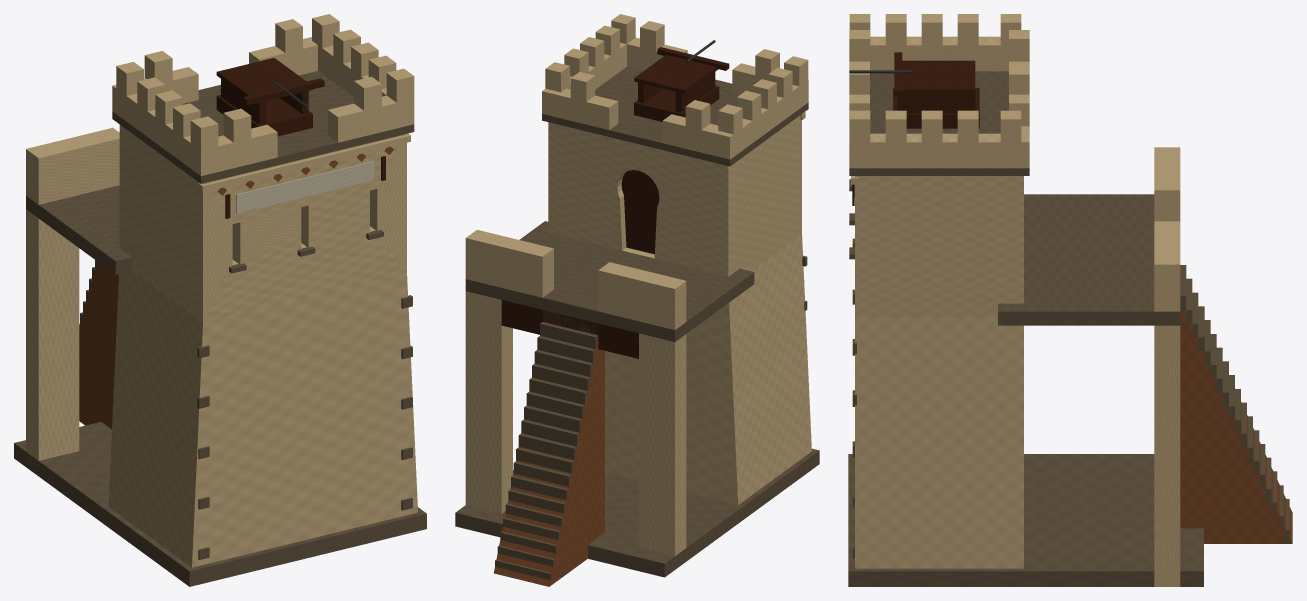
The model's file is Berber_WallTower_Age3_springald.fbx.
3 views of the same model, side by side, from view 1: azimuth 30°, elevation 25°; view 2: azimuth 150°, elevation 25°; view 3: azimuth 270°, elevation 25° (orthographic). The views are drawn at different scales.
Visible parts, largest first — view 1: battered_front_tower, front_upper_chamber, rear_support_west, ground_stone_plinth, roof_platform, rear_walk_parapet, stair_ramp_support, through_walk_deck, roof_side_parapet, owner_front_banner, roof_front_split_parapet.001, springald_top_rail (+22 smaller); view 2: battered_front_tower, front_upper_chamber, rear_support_west, through_walk_deck, rear_support_east, ground_stone_plinth, stair_ramp_support, roof_platform, rear_walk_parapet_east, rear_walk_parapet, rear_bearer, rear_horseshoe_chamber_door (+42 smaller); view 3: battered_front_tower, front_upper_chamber, ground_stone_plinth, through_walk_deck, stair_ramp_support, rear_support_east, roof_side_parapet.001, roof_platform, roof_side_parapet, rear_walk_parapet_east, springald_top_rail, rear_walk_parapet (+14 smaller).
Boxes of the visible parts, <box> form: battered_front_tower: <box>108,271,417,567</box>; front_upper_chamber: <box>119,125,406,322</box>; rear_support_west: <box>26,209,79,474</box>; ground_stone_plinth: <box>14,422,426,586</box>; roof_platform: <box>112,71,414,183</box>; rear_walk_parapet: <box>26,127,119,204</box>; stair_ramp_support: <box>79,262,118,429</box>; through_walk_deck: <box>26,185,132,274</box>; roof_side_parapet: <box>112,85,218,176</box>; owner_front_banner: <box>236,161,374,213</box>; roof_front_split_parapet.001: <box>328,95,396,142</box>; springald_top_rail: <box>216,58,312,103</box>; battered_front_tower: <box>605,235,811,504</box>; front_upper_chamber: <box>548,115,801,276</box>; rear_support_west: <box>639,333,686,555</box>; through_walk_deck: <box>465,221,754,341</box>; rear_support_east: <box>465,291,512,513</box>; ground_stone_plinth: <box>455,448,819,577</box>; stair_ramp_support: <box>494,340,604,586</box>; roof_platform: <box>542,66,808,166</box>; rear_walk_parapet_east: <box>465,230,553,297</box>; rear_walk_parapet: <box>598,262,686,329</box>; rear_bearer: <box>501,300,638,358</box>; rear_horseshoe_chamber_door: <box>621,170,659,254</box>; battered_front_tower: <box>855,317,1023,568</box>; front_upper_chamber: <box>855,176,1023,317</box>; ground_stone_plinth: <box>848,454,1203,586</box>; through_walk_deck: <box>998,194,1180,325</box>; stair_ramp_support: <box>1180,310,1292,543</box>; rear_support_east: <box>1154,325,1180,586</box>; roof_side_parapet.001: <box>849,133,1029,168</box>; roof_platform: <box>849,71,1029,175</box>; roof_side_parapet: <box>870,36,1008,71</box>; rear_walk_parapet_east: <box>1154,221,1180,311</box>; springald_top_rail: <box>902,60,975,92</box>; rear_walk_parapet: <box>1154,147,1180,221</box>.
Bounding box in the file's own units: 640 × 1174 × 1024.
7 materials, 7 textured.
